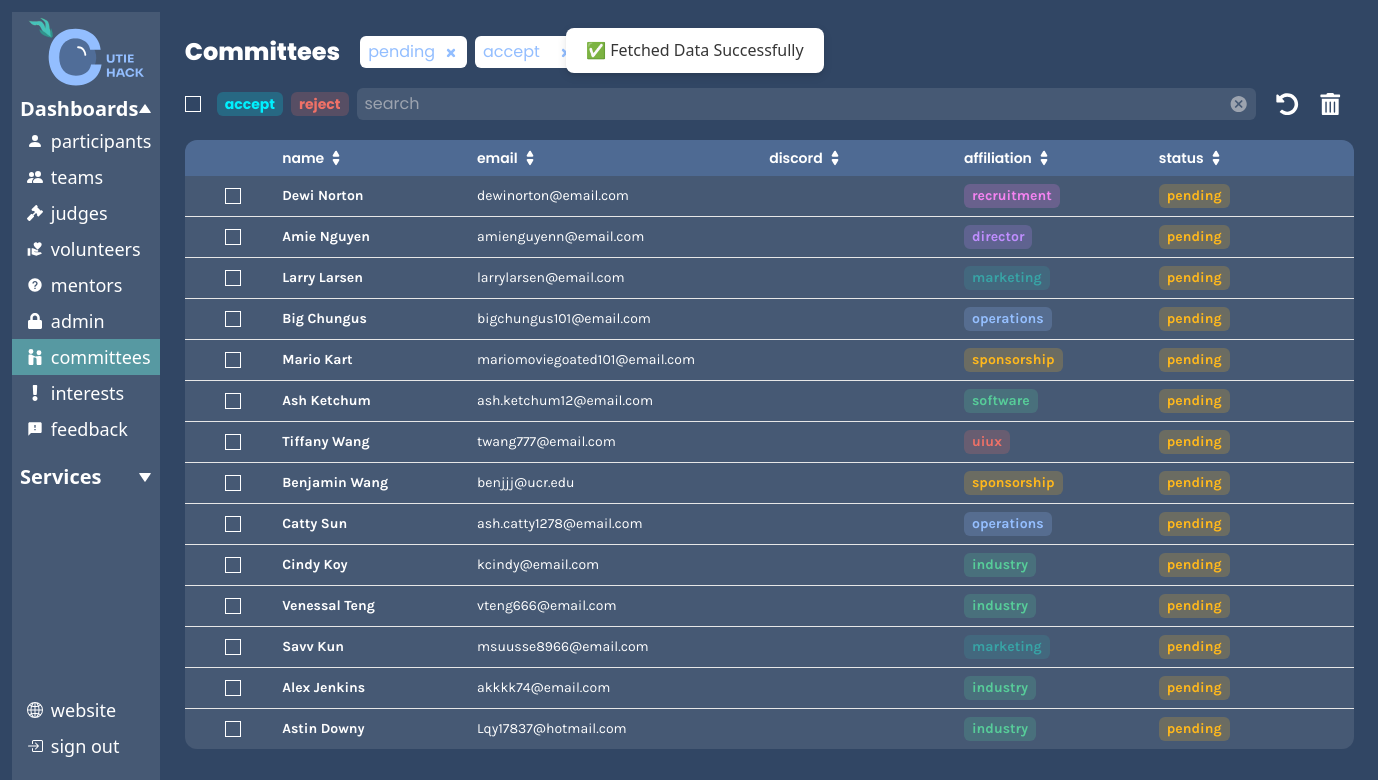
Committee Search › Search For Multiple Entries
The image size is (1378, 780).
Type "Mario" into the field with test id "input-input" at (793,104), box [357, 88, 1229, 120]
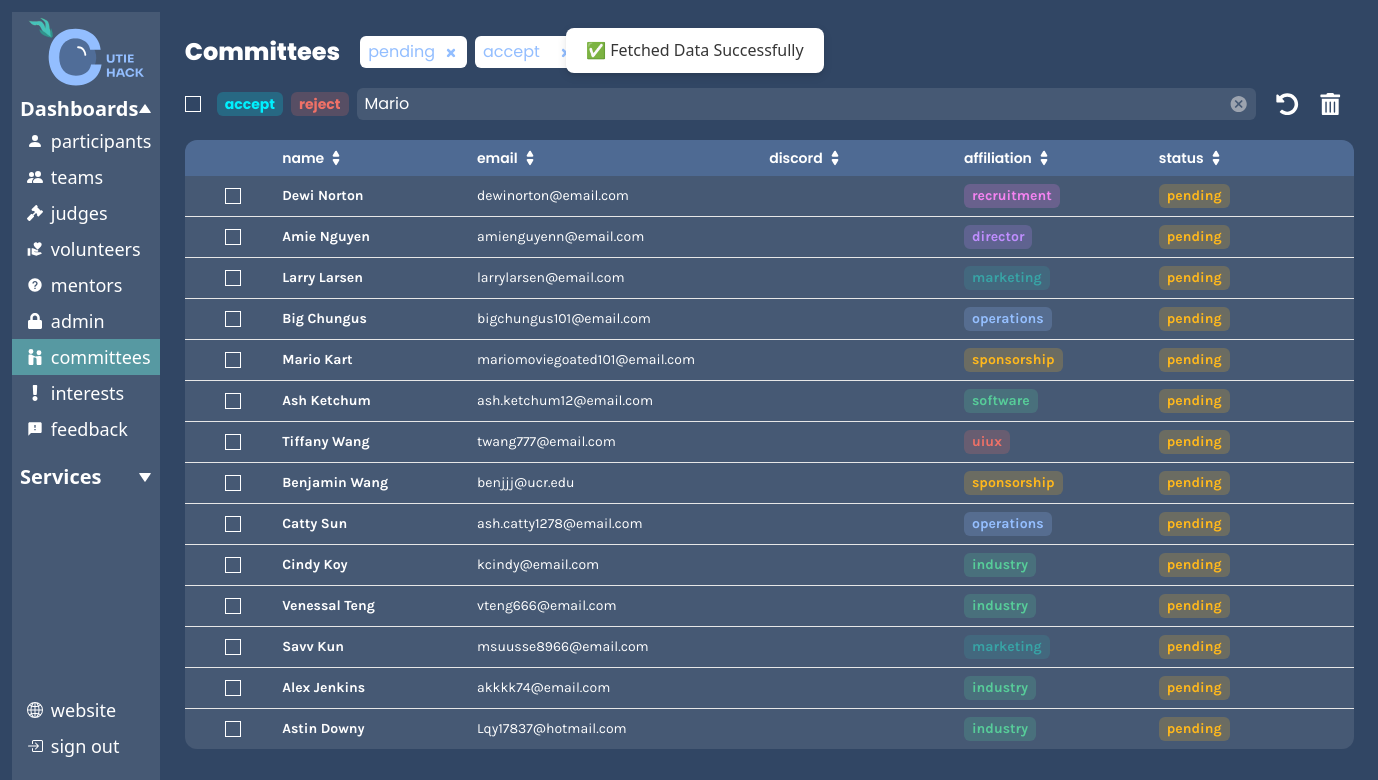
Submit the form, box [357, 84, 1257, 124]
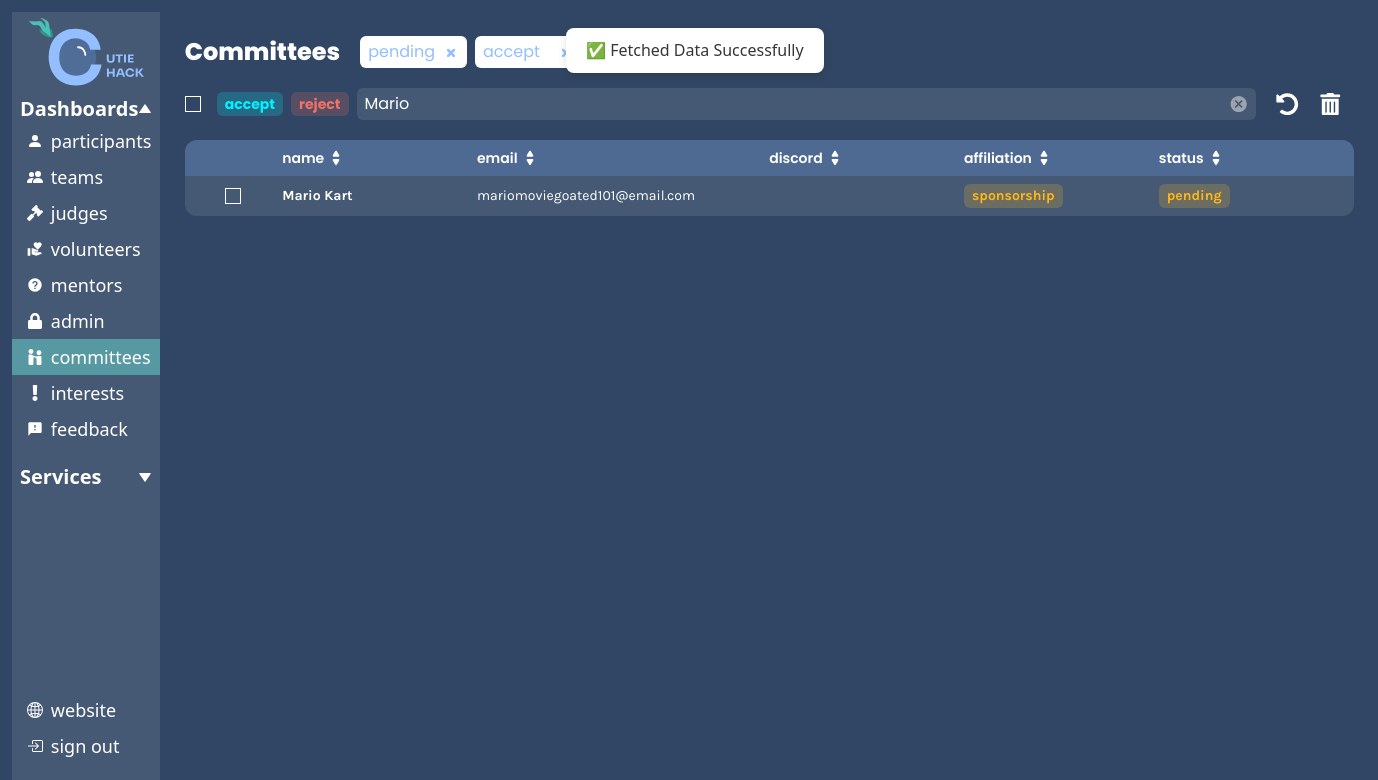
Expected: the element with test id "1" is gone
Expected: the element with test id "2" is gone
Expected: the element with test id "3" is gone
